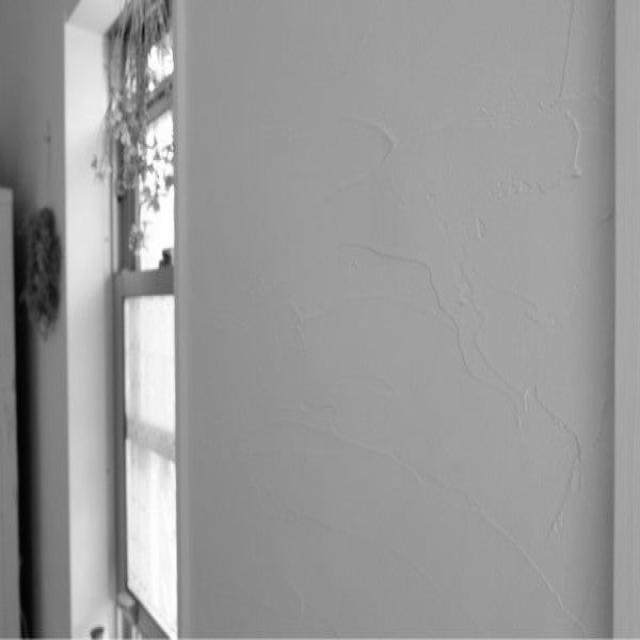trowels marks: (264, 0, 612, 638)
